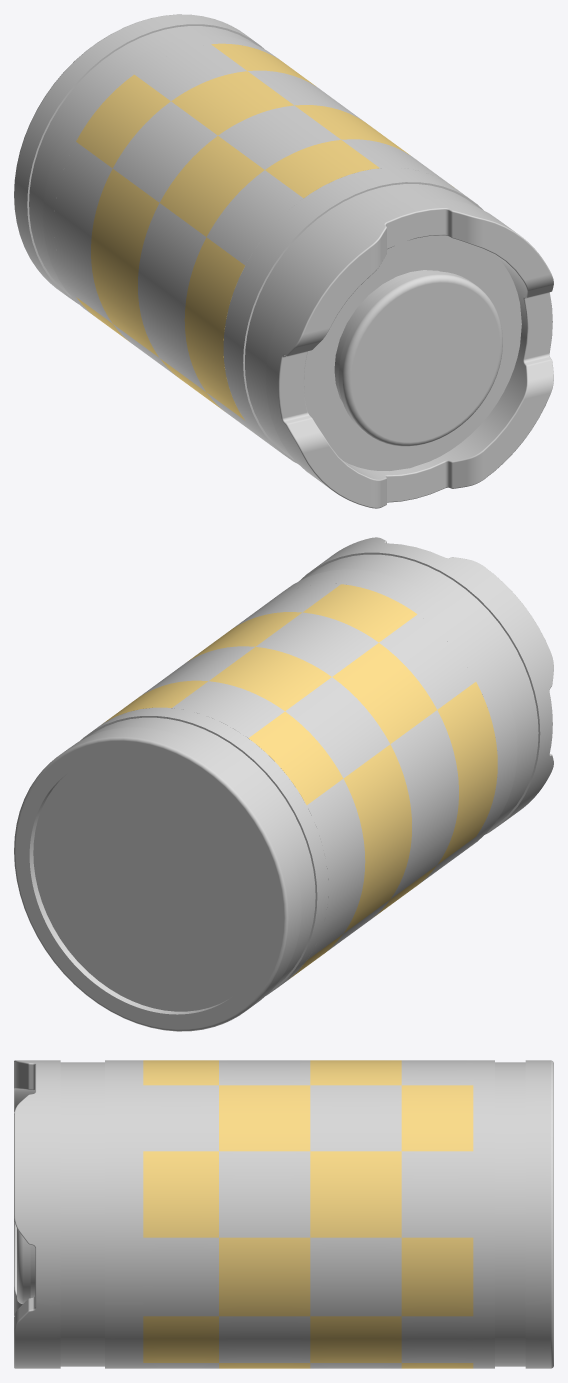
File: 防撞桶.gltf
The picture shows the model from 3 angles, top to bottom: view 1: azimuth 30°, elevation 25°; view 2: azimuth 150°, elevation 25°; view 3: azimuth 270°, elevation 25°; orthographic projection. The views are drawn at different scales.
Parts seen in each view (by area): view 1: Default, Default_1; view 2: Default, Default_1; view 3: Default, Default_1.
Boxes of the visible parts, x1,y1,x2,y2 form: Default: (14,14,553,508); Default_1: (76,43,451,420); Default: (14,537,553,1031); Default_1: (103,584,497,978); Default: (14,1060,553,1368); Default_1: (143,1060,473,1368).
Size of the model in its own units: 0.5612 by 0.5612 by 0.9822.
